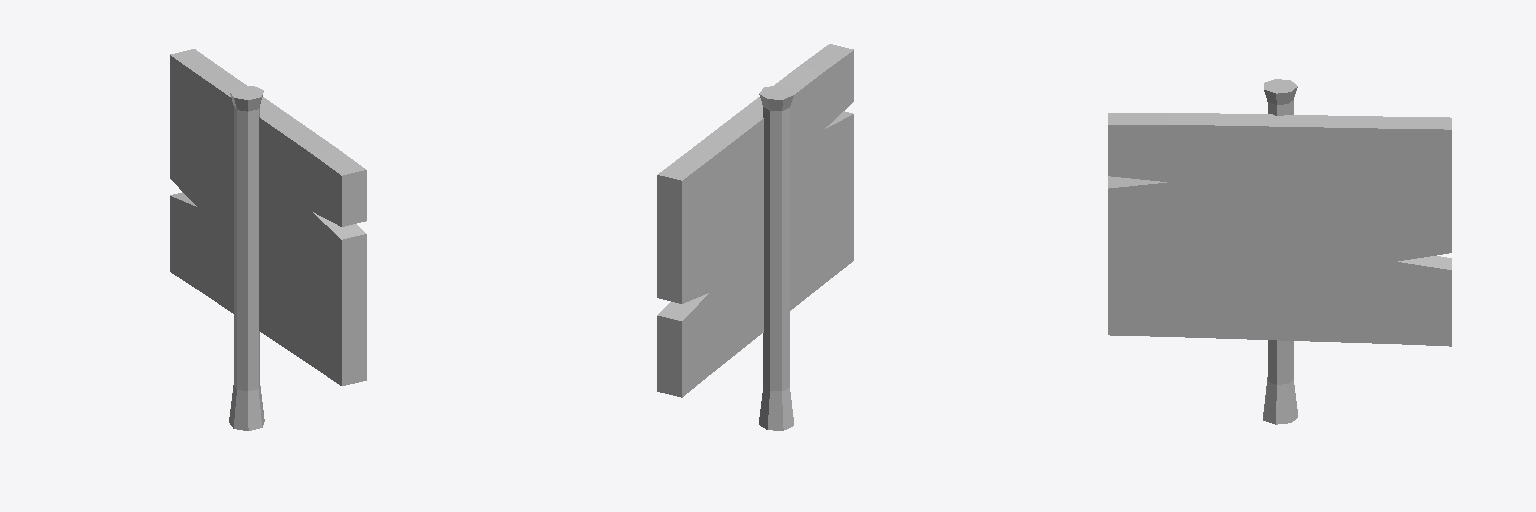
The model's file is cartel.obj.
3 views of the same model, side by side, from view 1: azimuth 30°, elevation 25°; view 2: azimuth 150°, elevation 25°; view 3: azimuth 270°, elevation 25° (orthographic).
Parts seen in each view (by area): view 1: Cube; view 2: Cube; view 3: Cube.
Part boxes in pixels (bbox=[...]): Cube: bbox=[170, 49, 366, 430]; Cube: bbox=[657, 44, 853, 430]; Cube: bbox=[1108, 79, 1451, 424].
Size of the model in its own units: 0.3281 by 2.12 by 2.